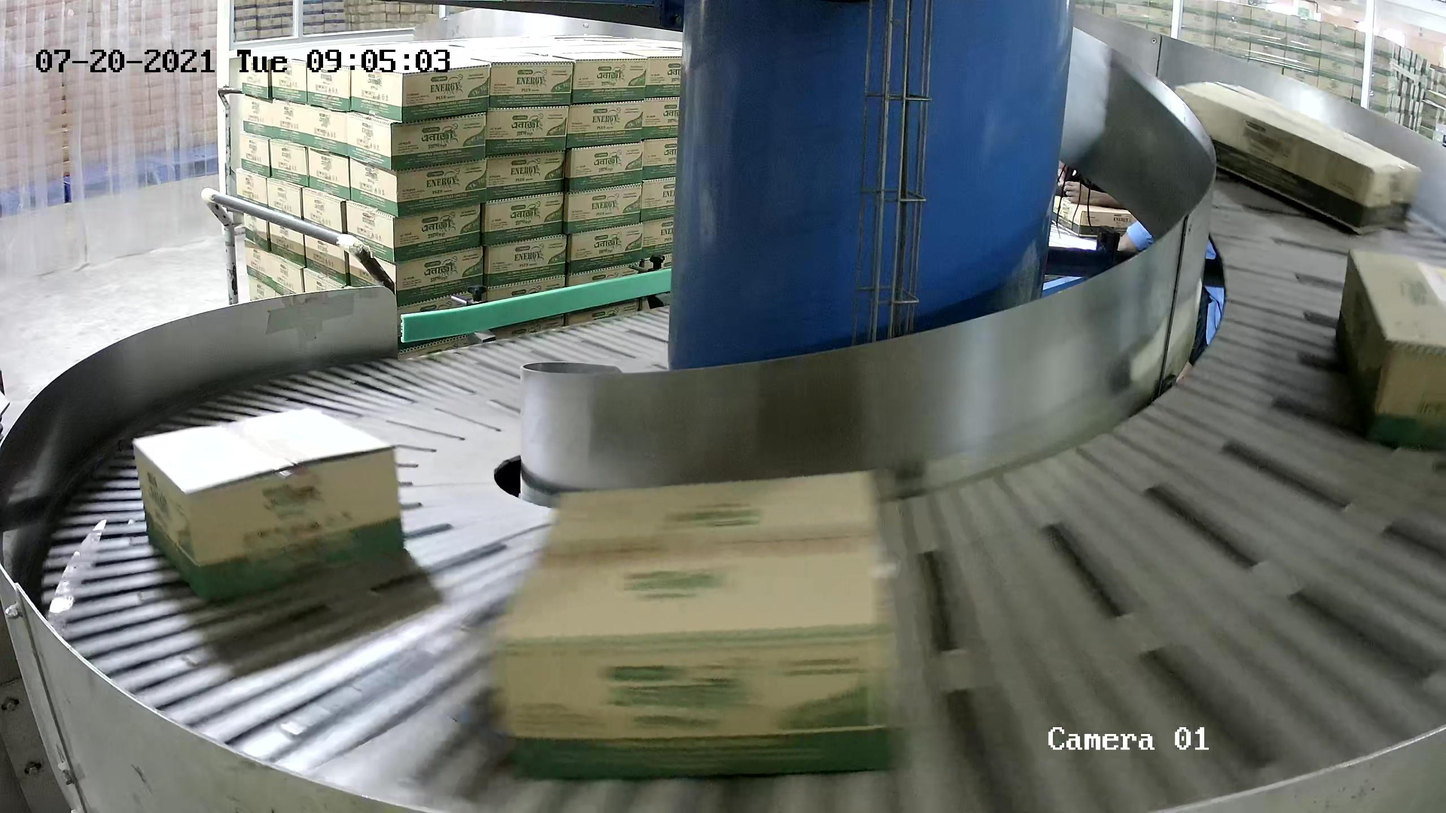Box: (490, 465, 918, 784), (130, 405, 407, 604), (1172, 80, 1422, 236), (1334, 245, 1446, 450)
